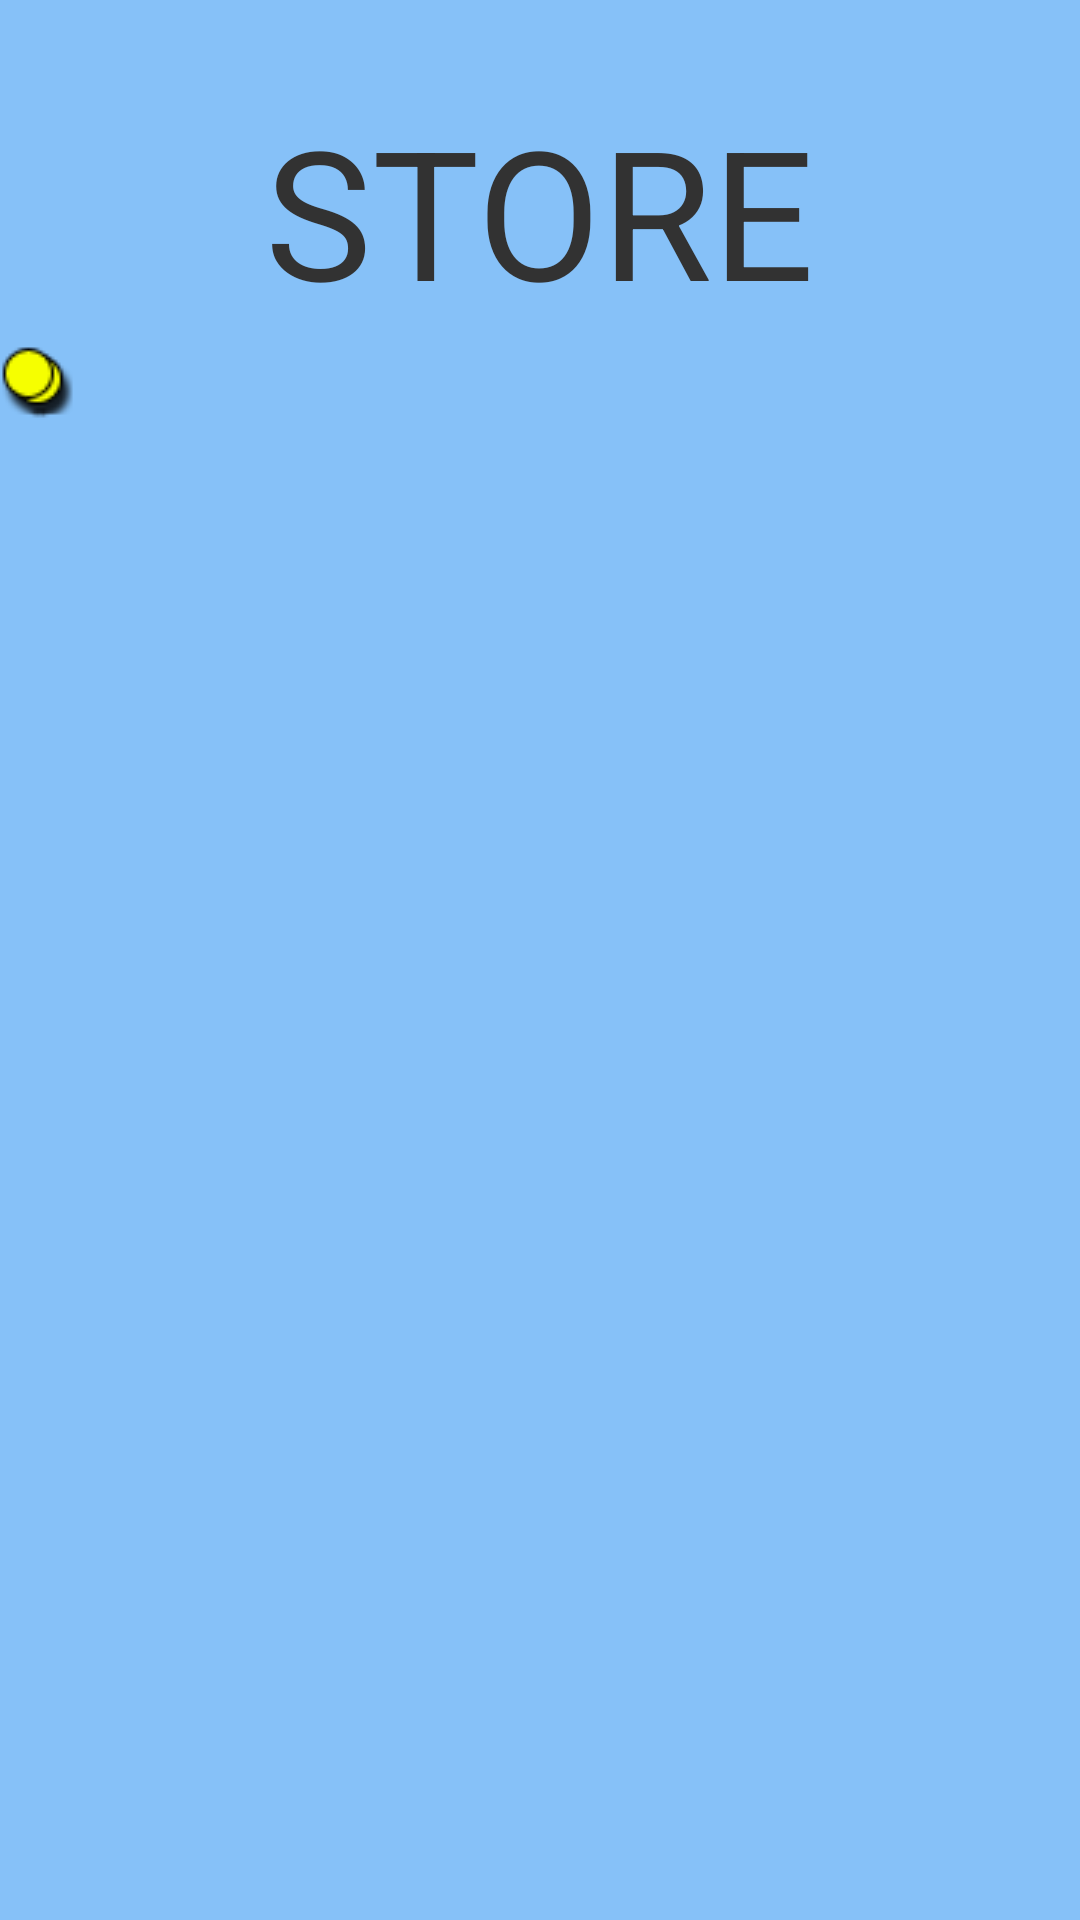

Point at icon controls on the screen. Image size 1080px×1920px, points as [x,y].
coin: [37,382]
